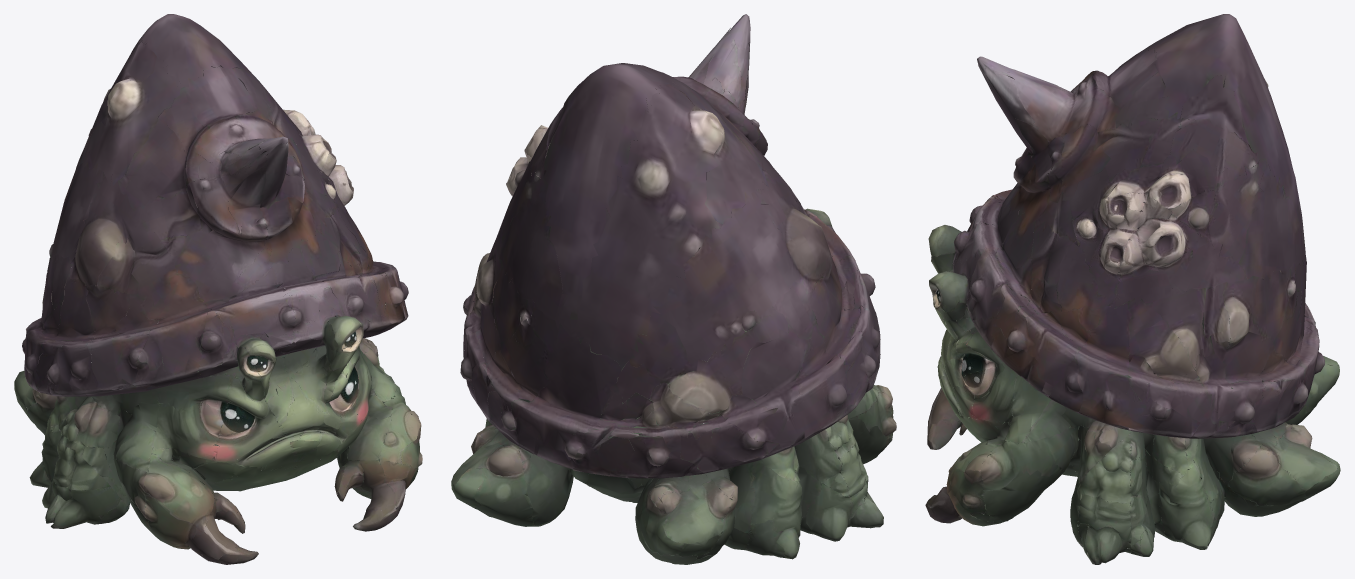
The picture shows the model from 3 angles, left to right: view 1: azimuth 30°, elevation 25°; view 2: azimuth 150°, elevation 25°; view 3: azimuth 270°, elevation 25°; orthographic projection. The views are drawn at different scales.
Parts seen in each view (by area): view 1: Mesh_0; view 2: Mesh_0; view 3: Mesh_0.
Part boxes in pixels (left/top/right/bottom): Mesh_0: left=14, top=14, right=422, bottom=564; Mesh_0: left=451, top=14, right=896, bottom=564; Mesh_0: left=925, top=14, right=1340, bottom=564.
Size of the model in its own units: 1.69 by 1.9 by 1.55.
Materials: 1 (1 with a texture image).
